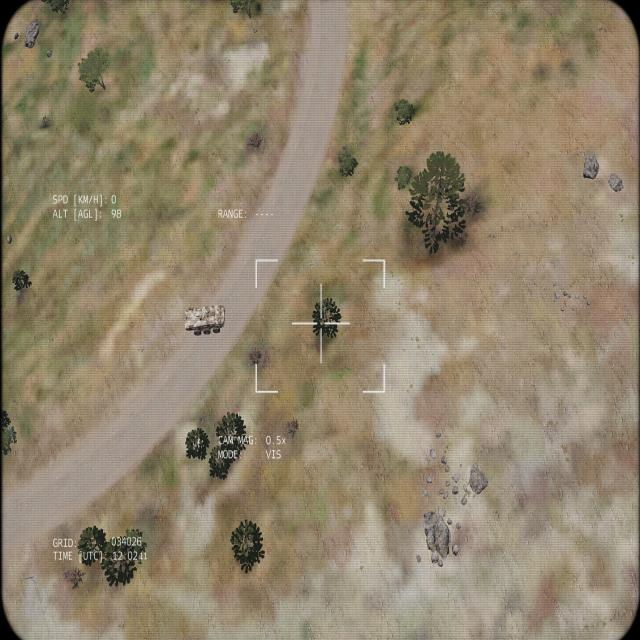apc: (184, 304, 225, 336)
